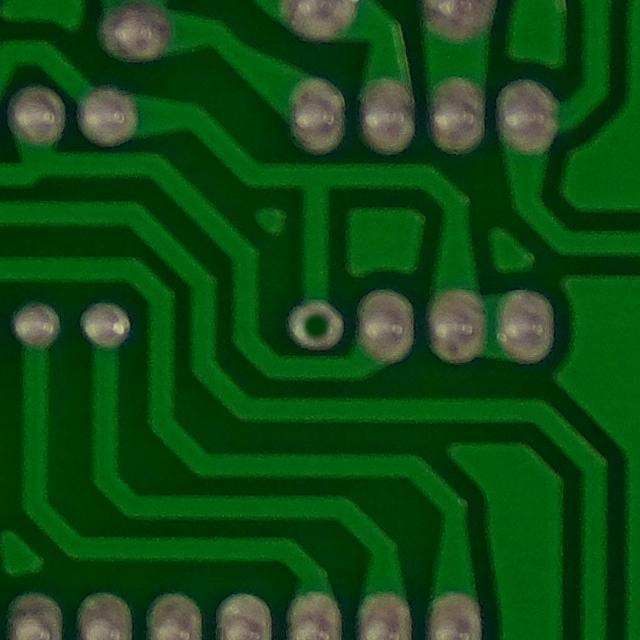missing_hole: (281, 292, 351, 361)
